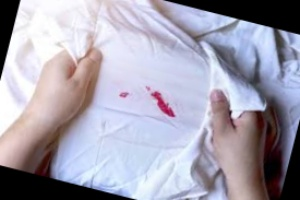lipstick: (139, 84, 188, 120), (116, 86, 131, 102)
